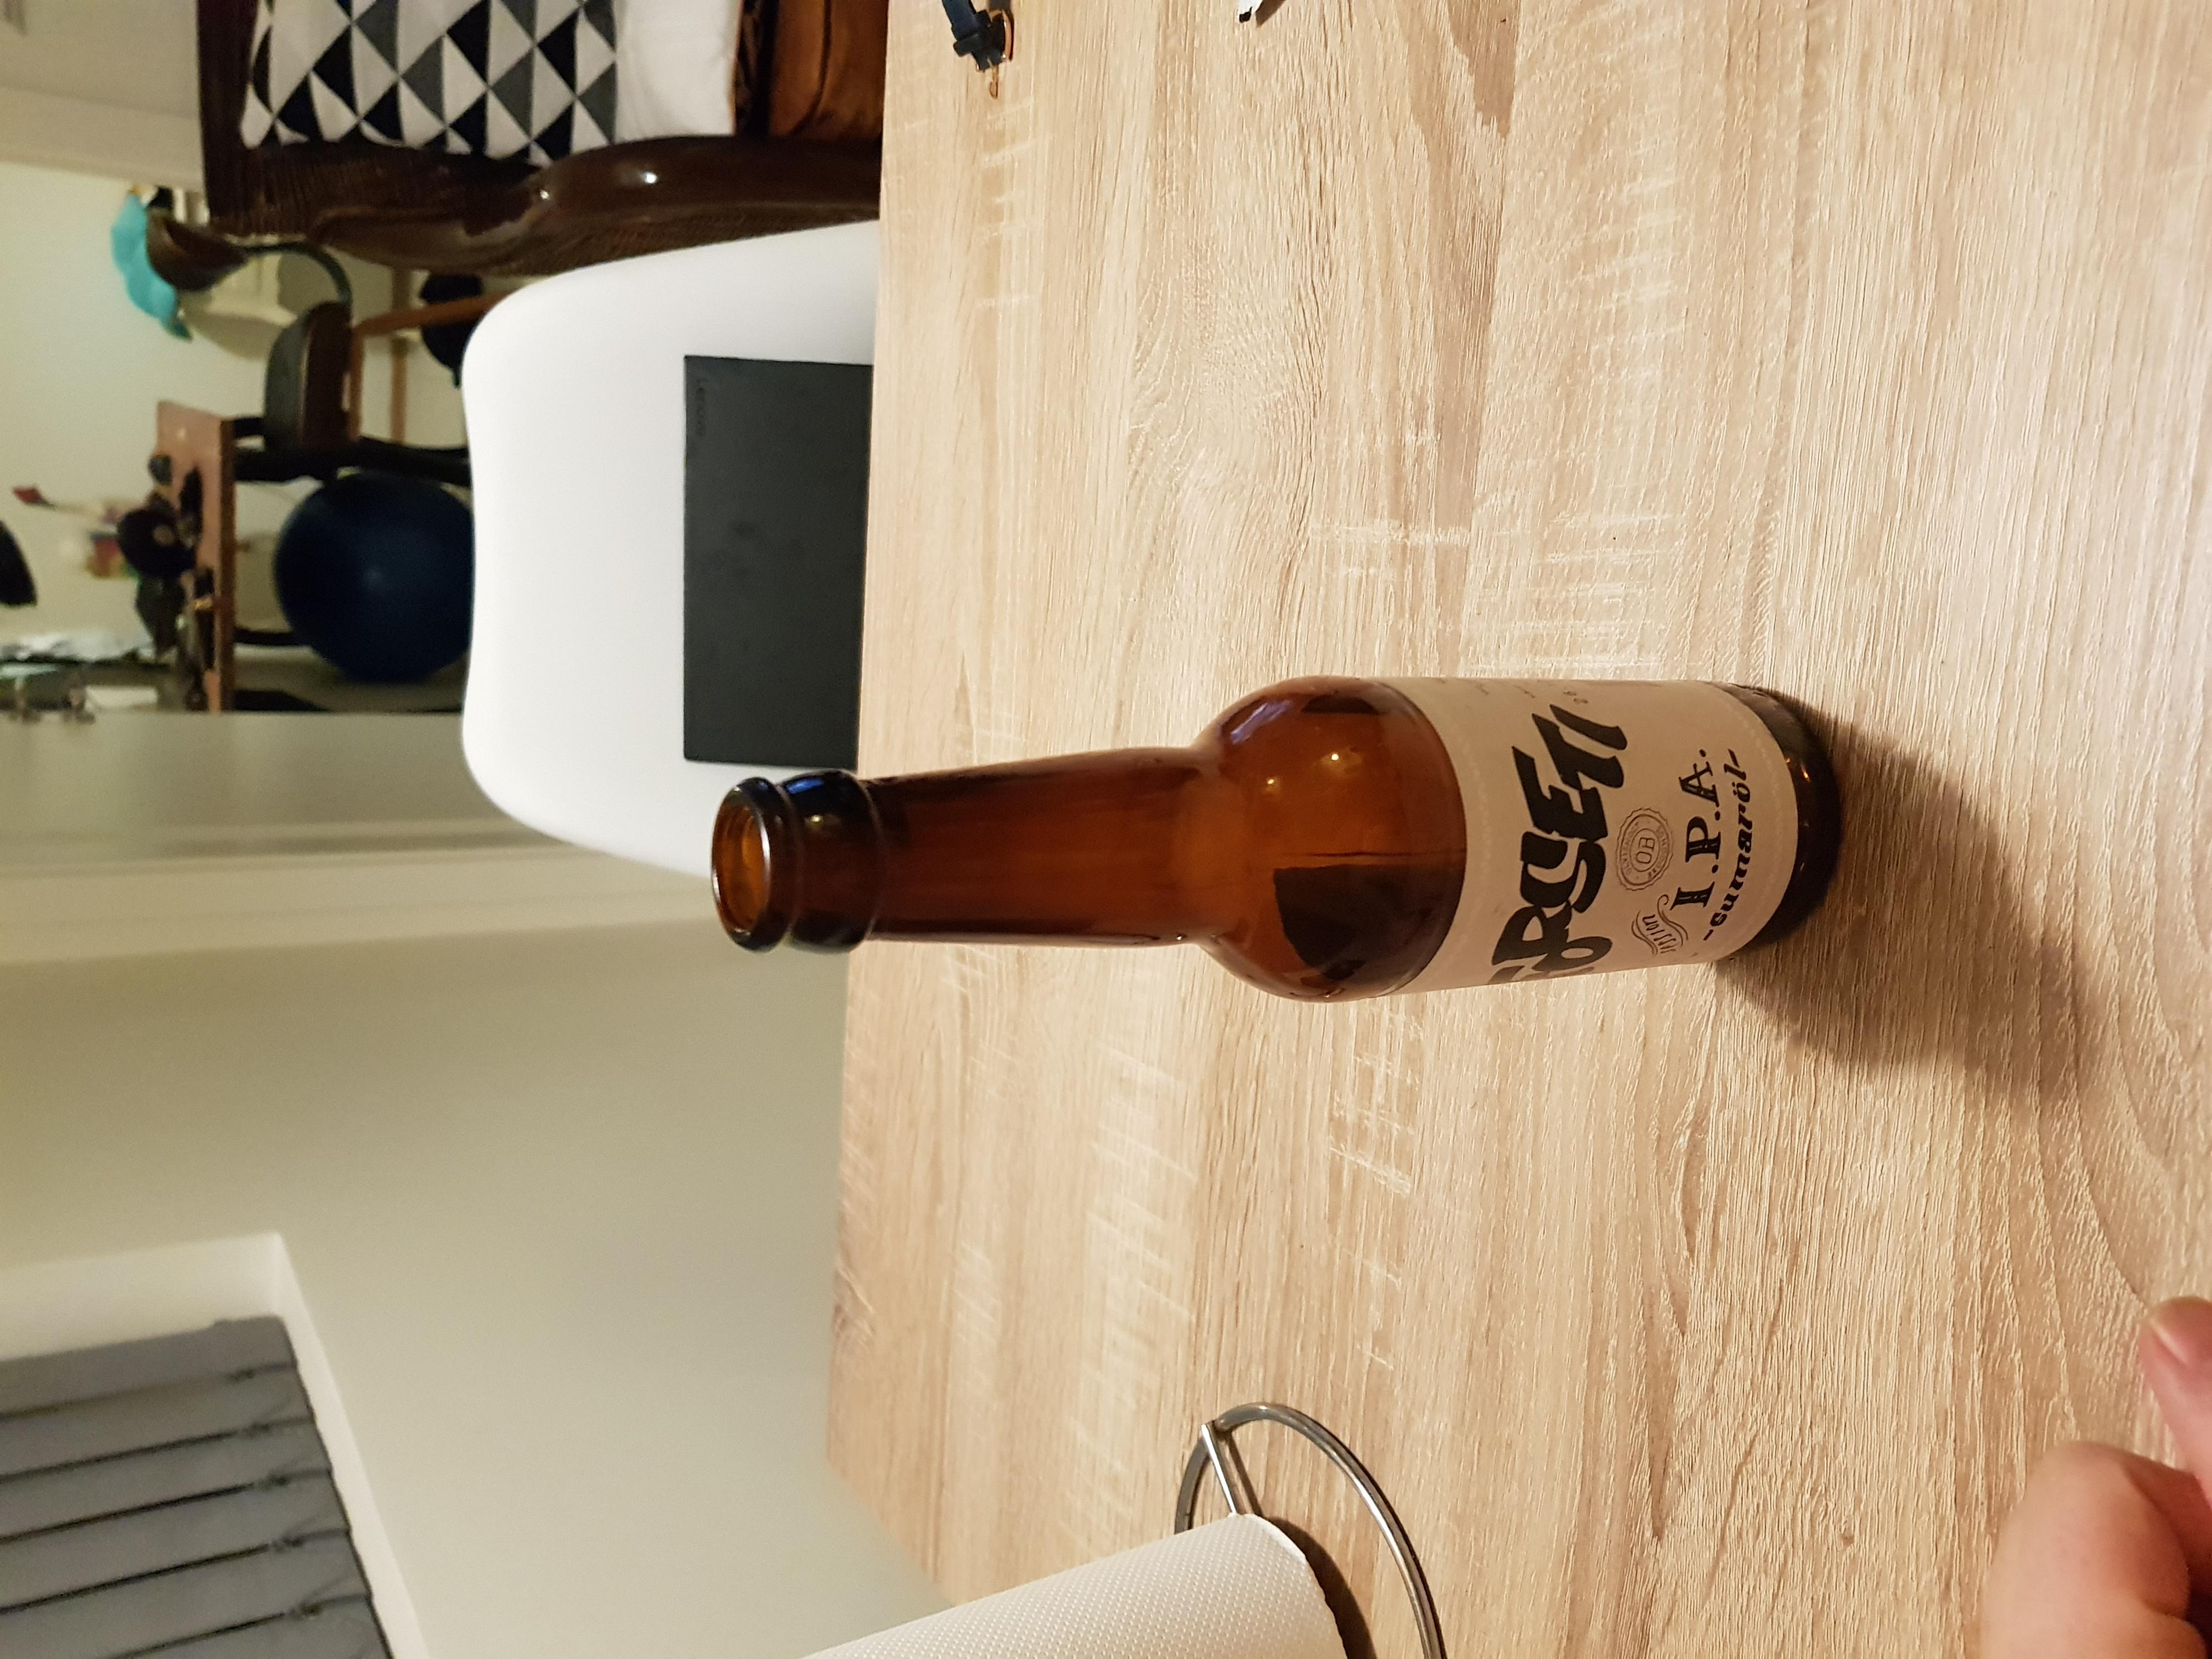Bottle: (705, 673, 1836, 995)
